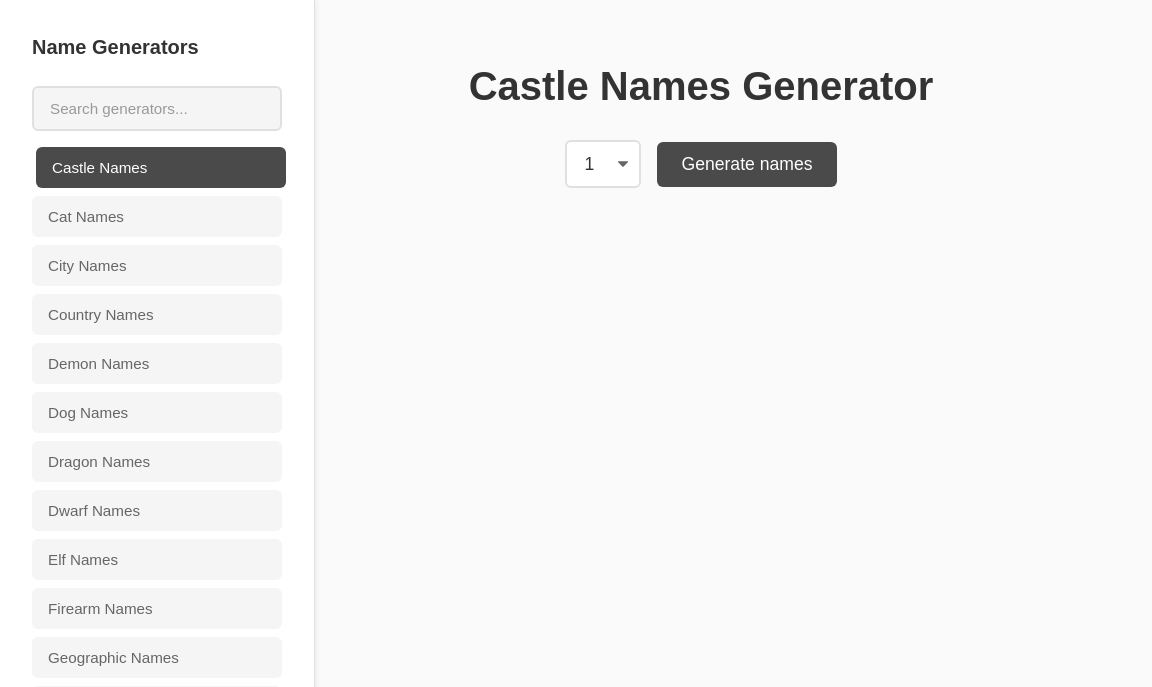
Scenario: App Component › search input filters name generators
Note: Type "human" in search
Type "human" into the field with placeholder "Search generators..." at (157, 108), box [32,86,282,131]
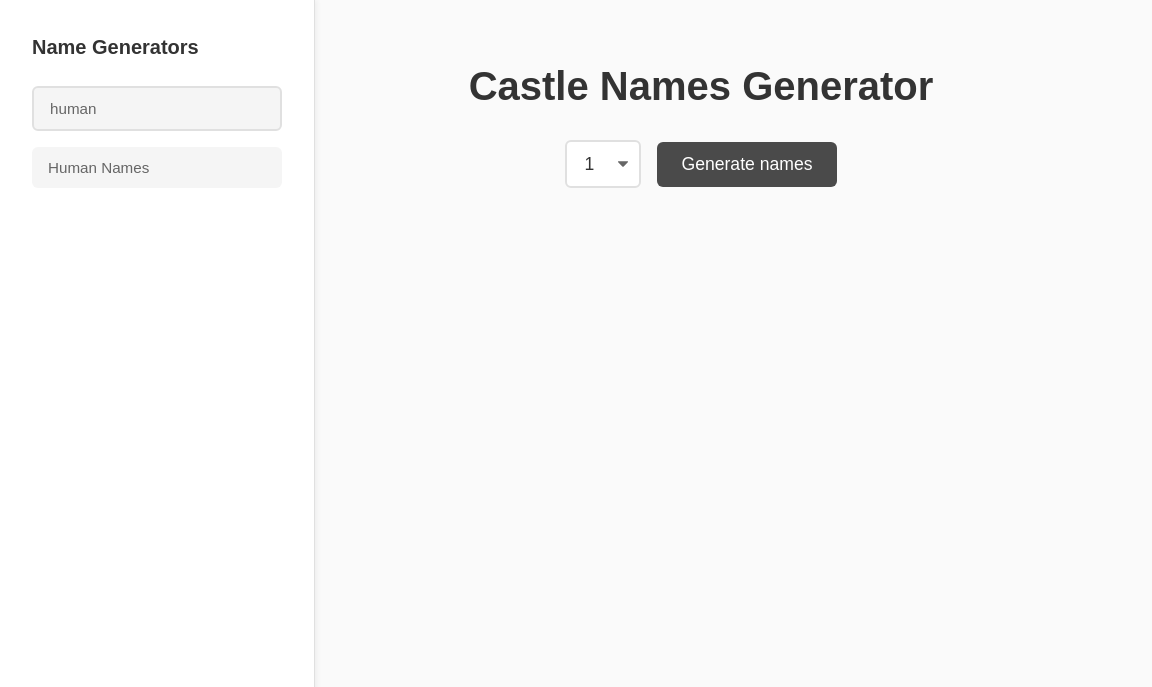
Check: the button "Human Names" is shown, box [32,147,282,188]
